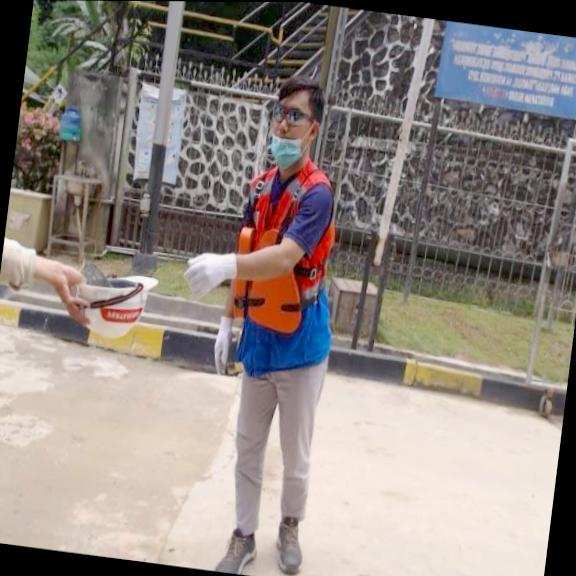safety_vest: (223, 217, 319, 336)
